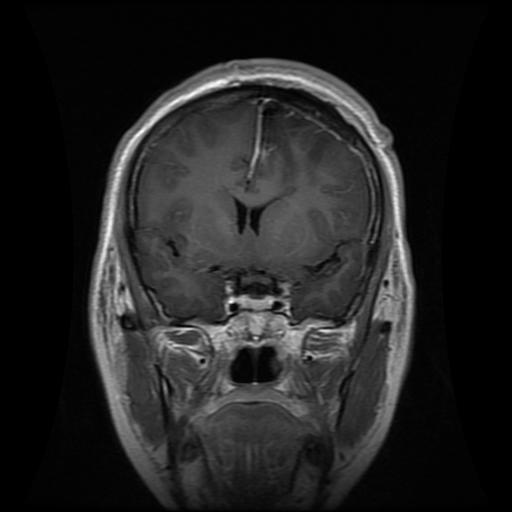Gliomia_tumour: (255, 98, 303, 170)
